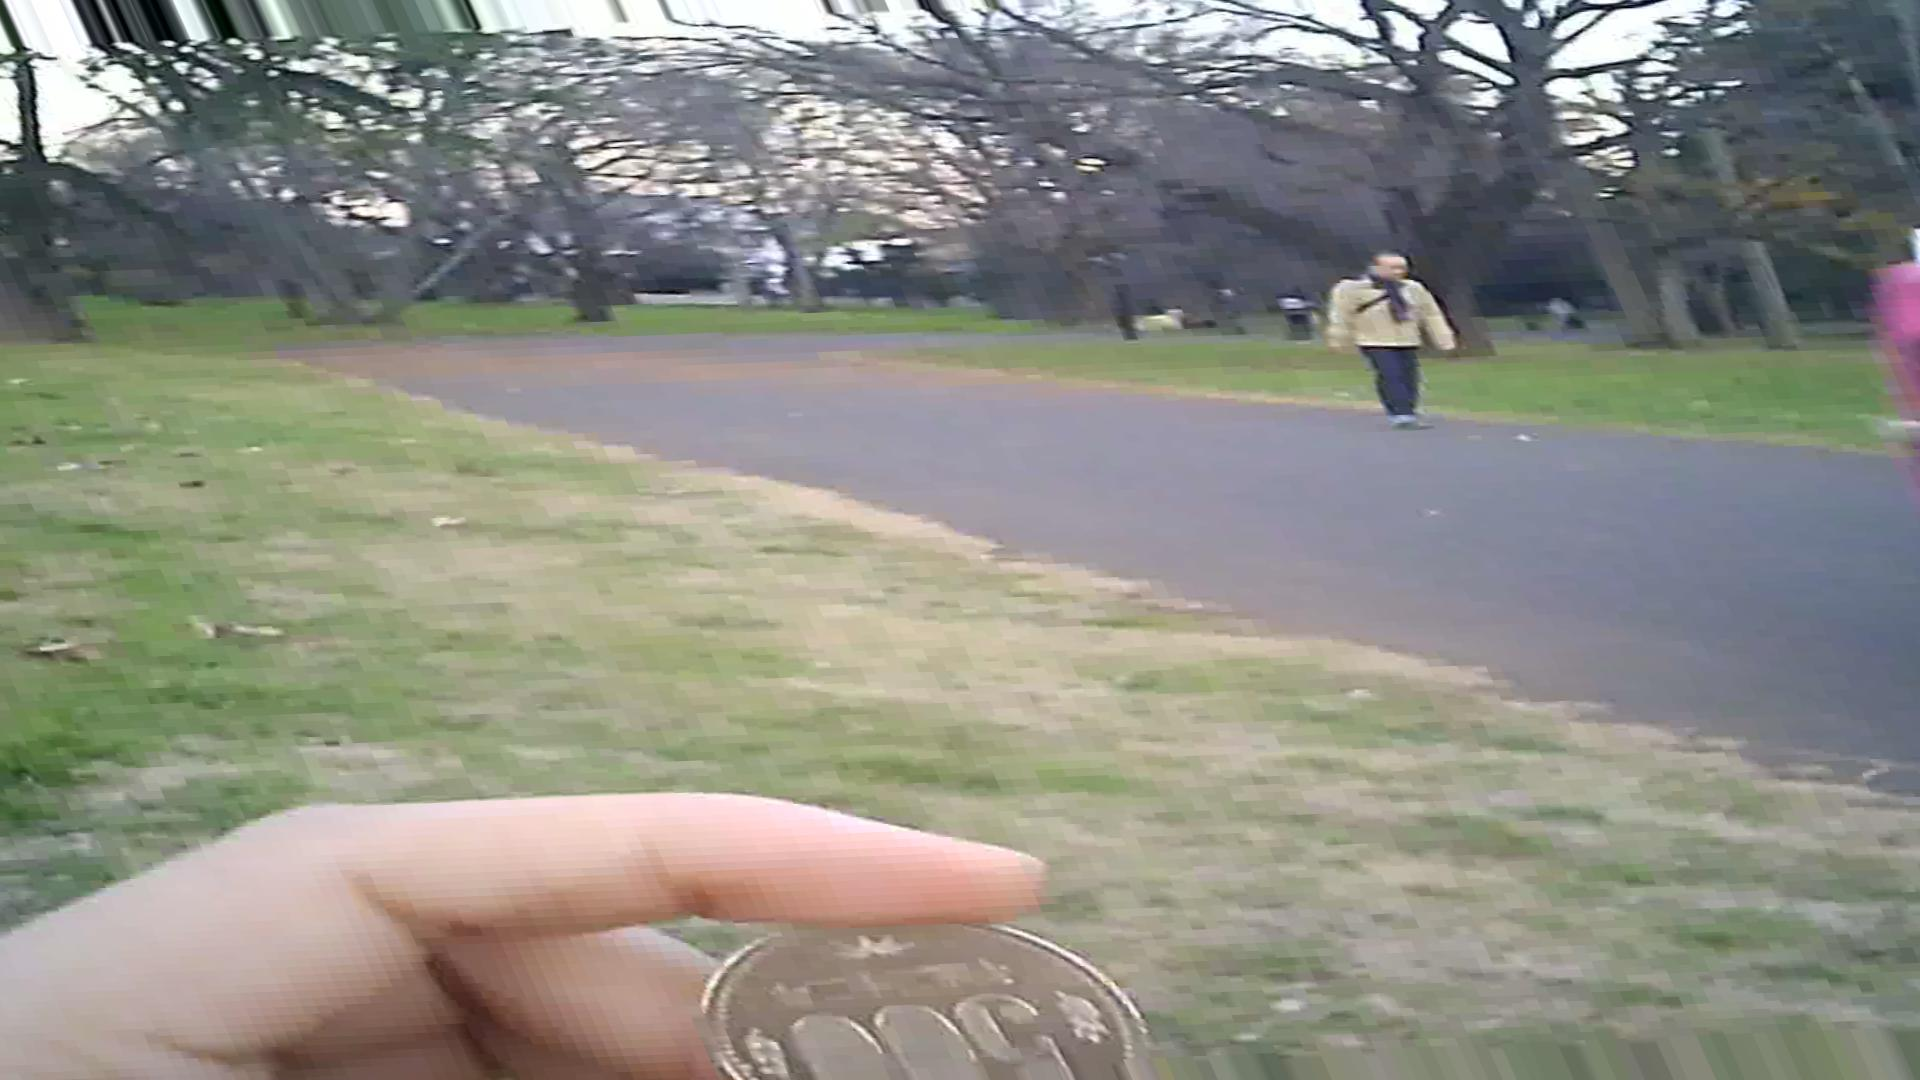500 Yen: (680, 894, 1149, 1079)
